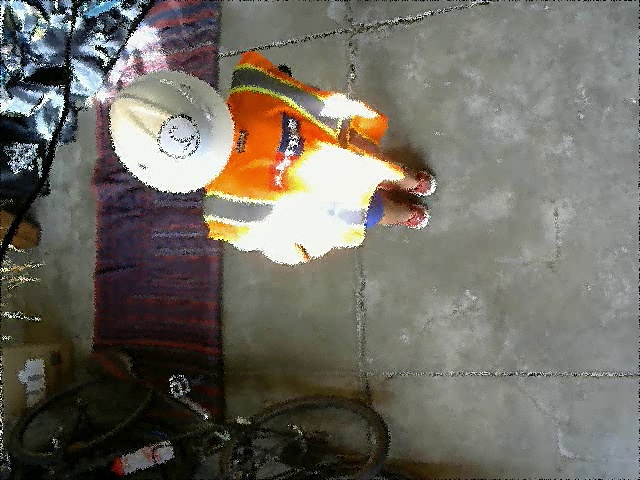two: (157, 115, 198, 160)
